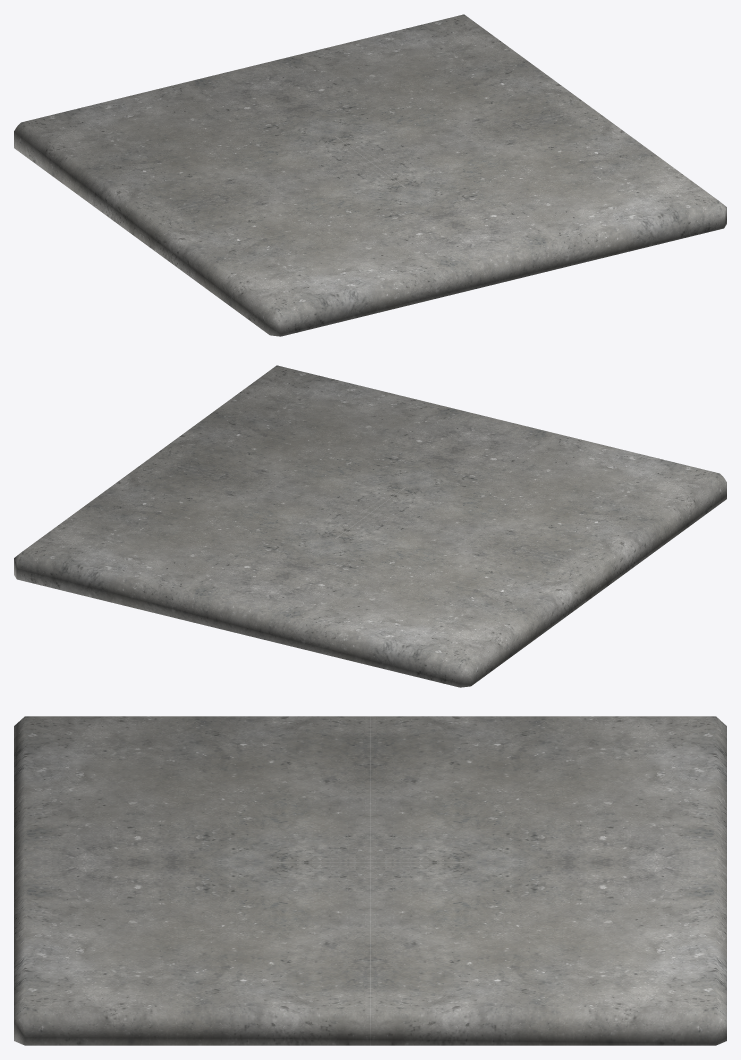
File: ME_concrete_Research_Station.fbx
The picture shows the model from 3 angles, top to bottom: view 1: azimuth 30°, elevation 25°; view 2: azimuth 150°, elevation 25°; view 3: azimuth 270°, elevation 25°; orthographic projection. The views are drawn at different scales.
Visible parts, largest first — view 1: ME_concrete_Research_Station; view 2: ME_concrete_Research_Station; view 3: ME_concrete_Research_Station.
Boxes of the visible parts, x1=… form: ME_concrete_Research_Station: x1=14, y1=14, x2=726, y2=336; ME_concrete_Research_Station: x1=14, y1=365, x2=726, y2=687; ME_concrete_Research_Station: x1=14, y1=716, x2=726, y2=1045.
Bounding box in the file's own units: 400 × 20 × 400.
